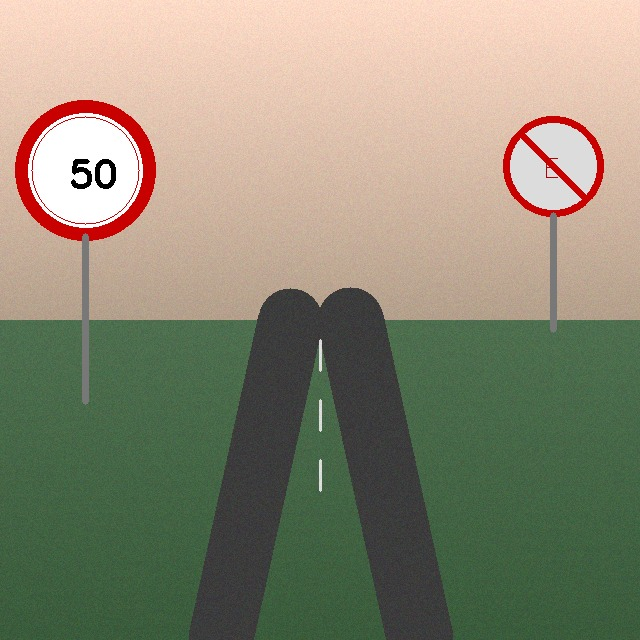no_estacionar: (504, 117, 602, 215)
velocidad: (19, 104, 151, 236)
